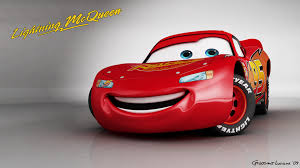mcqueen: (86, 29, 271, 139)
